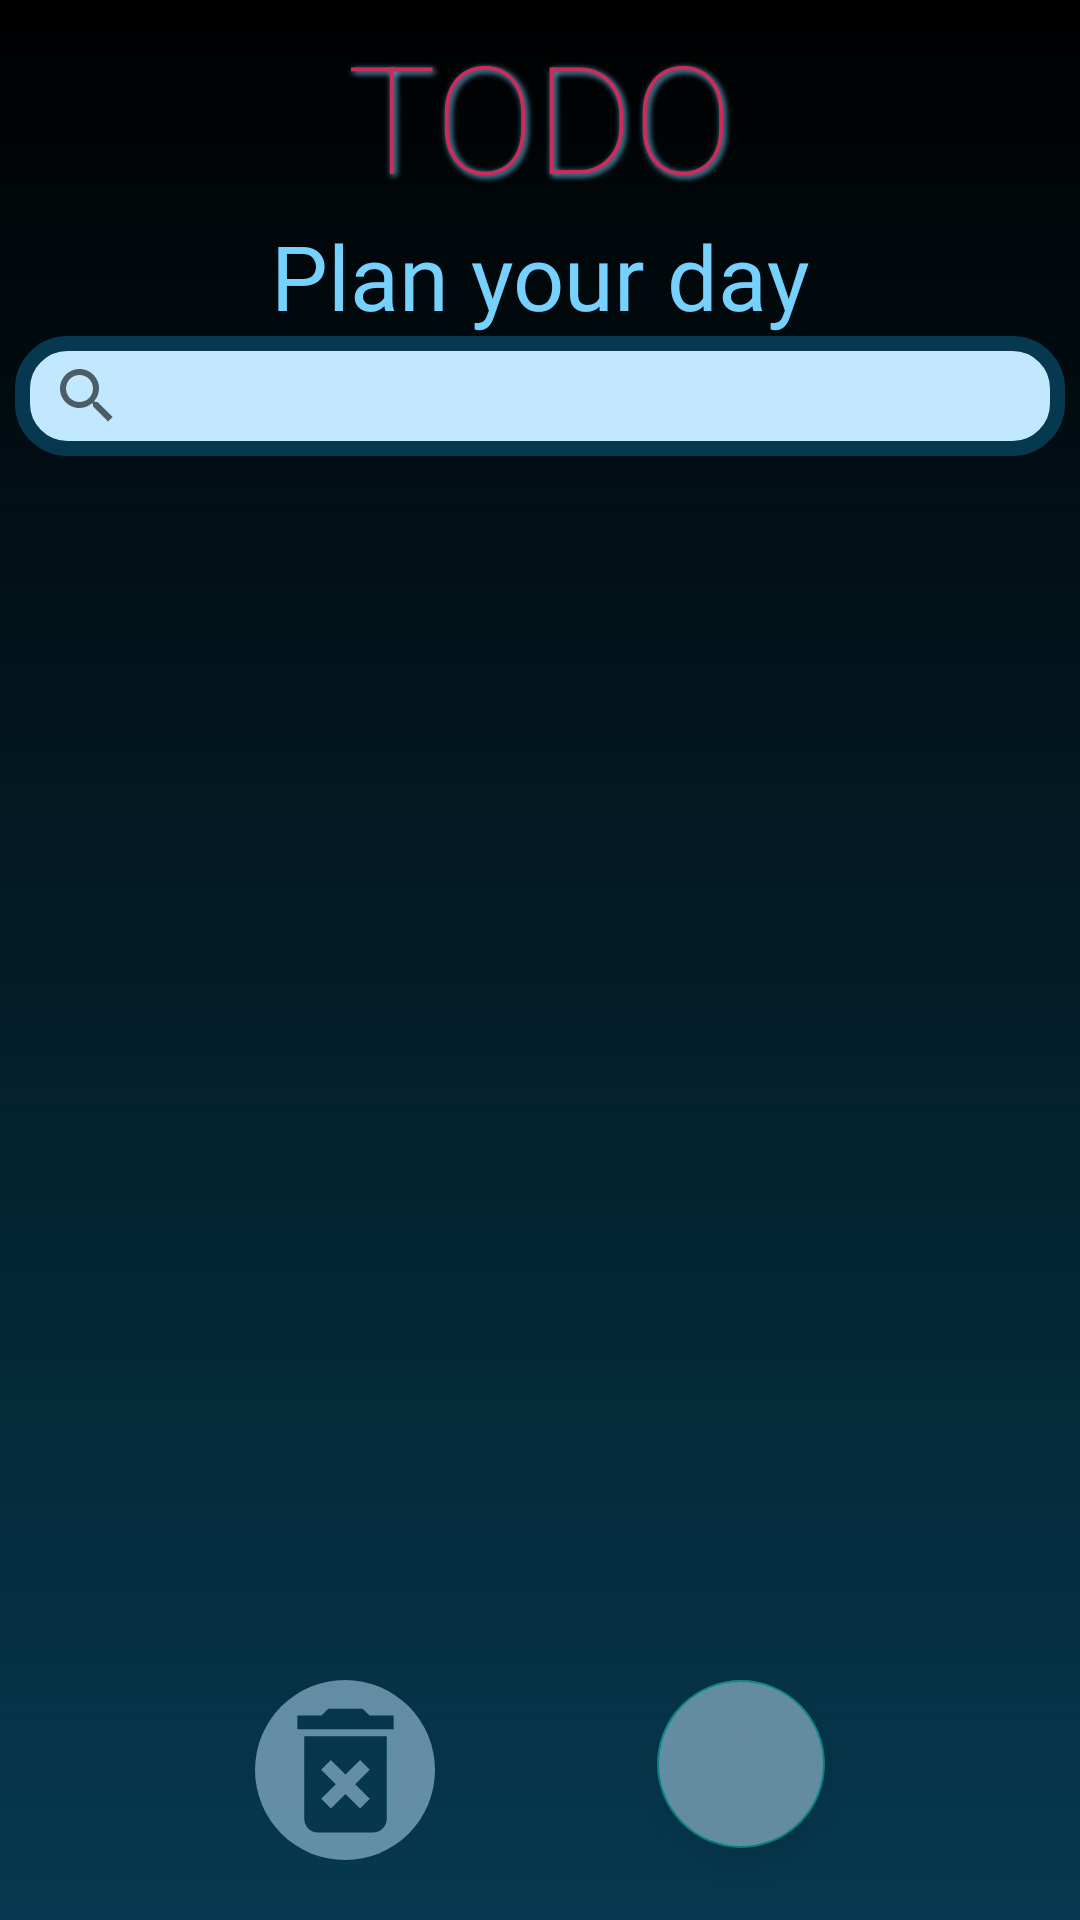

Named icons in this screenshot (1080 x 1920) and their bounding boxes, rect(x1, y1, x2, y2):
delete all: rect(255, 1680, 435, 1860)
